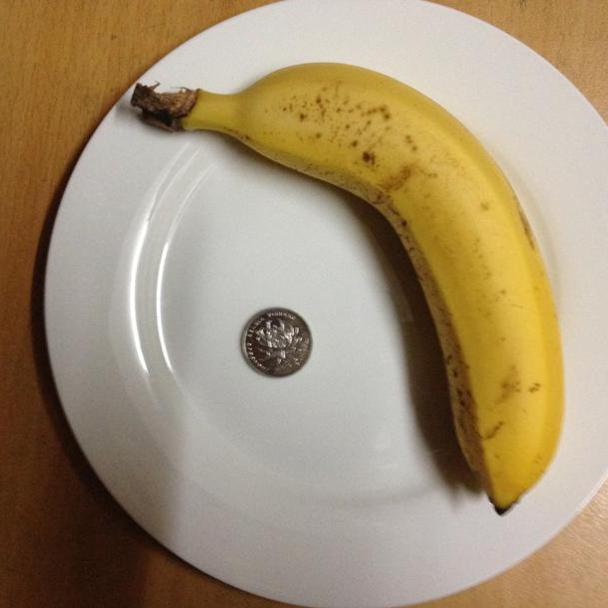banana: (107, 62, 569, 519)
